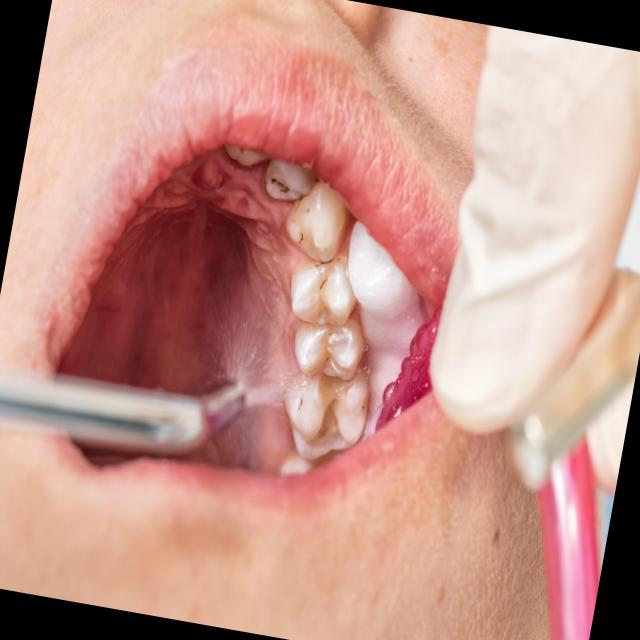Caries: (271, 178, 289, 193), (263, 180, 271, 197), (320, 278, 327, 290), (320, 258, 333, 264), (300, 232, 303, 240), (300, 399, 302, 405), (362, 405, 364, 410), (326, 358, 328, 360), (298, 407, 300, 409), (298, 241, 300, 243), (329, 333, 330, 335), (335, 332, 336, 333), (326, 309, 326, 309)
Tooth: (285, 367, 369, 460), (286, 182, 349, 262), (290, 255, 357, 325), (294, 319, 365, 379), (263, 159, 315, 200)
